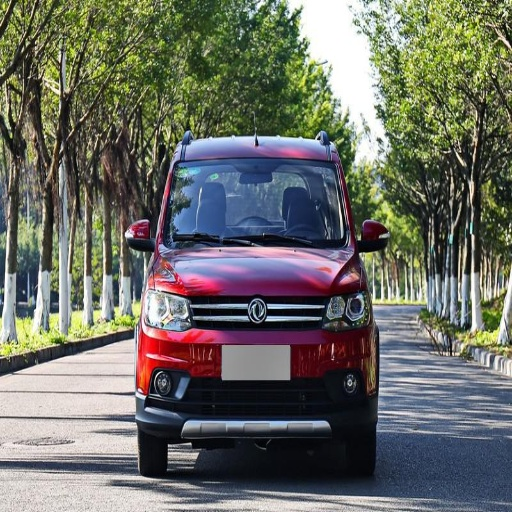front_bumper: (137, 295, 375, 440)
front_right_light: (143, 287, 194, 332)
hood: (153, 248, 360, 299)
